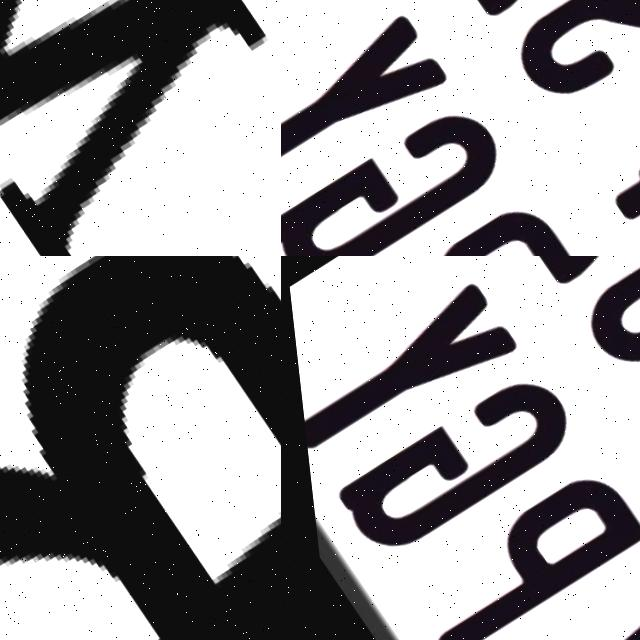4: (443, 561, 640, 640), (578, 65, 640, 256)
G: (317, 359, 591, 561), (281, 91, 520, 256)
M: (0, 0, 281, 256)
P: (378, 463, 640, 640), (308, 195, 585, 256)
R: (0, 256, 281, 640)
S: (484, 0, 640, 118)
Y: (287, 281, 527, 476), (281, 13, 457, 208)
